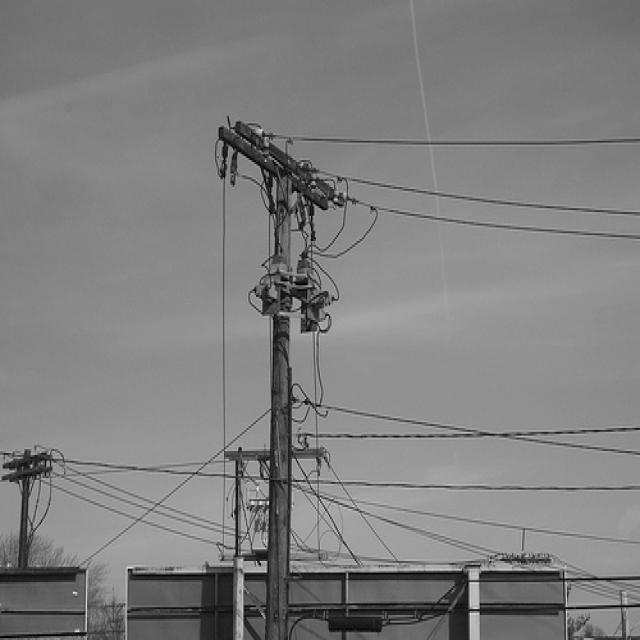crossarm: (220, 127, 328, 211), (227, 447, 325, 461), (3, 453, 51, 470), (2, 467, 52, 481)
pole: (260, 154, 291, 640), (19, 448, 31, 564)
wire: (69, 409, 269, 574), (298, 395, 640, 457), (83, 461, 640, 493), (320, 170, 640, 218), (346, 197, 640, 241), (300, 426, 640, 440), (274, 135, 640, 147), (221, 151, 229, 455)
